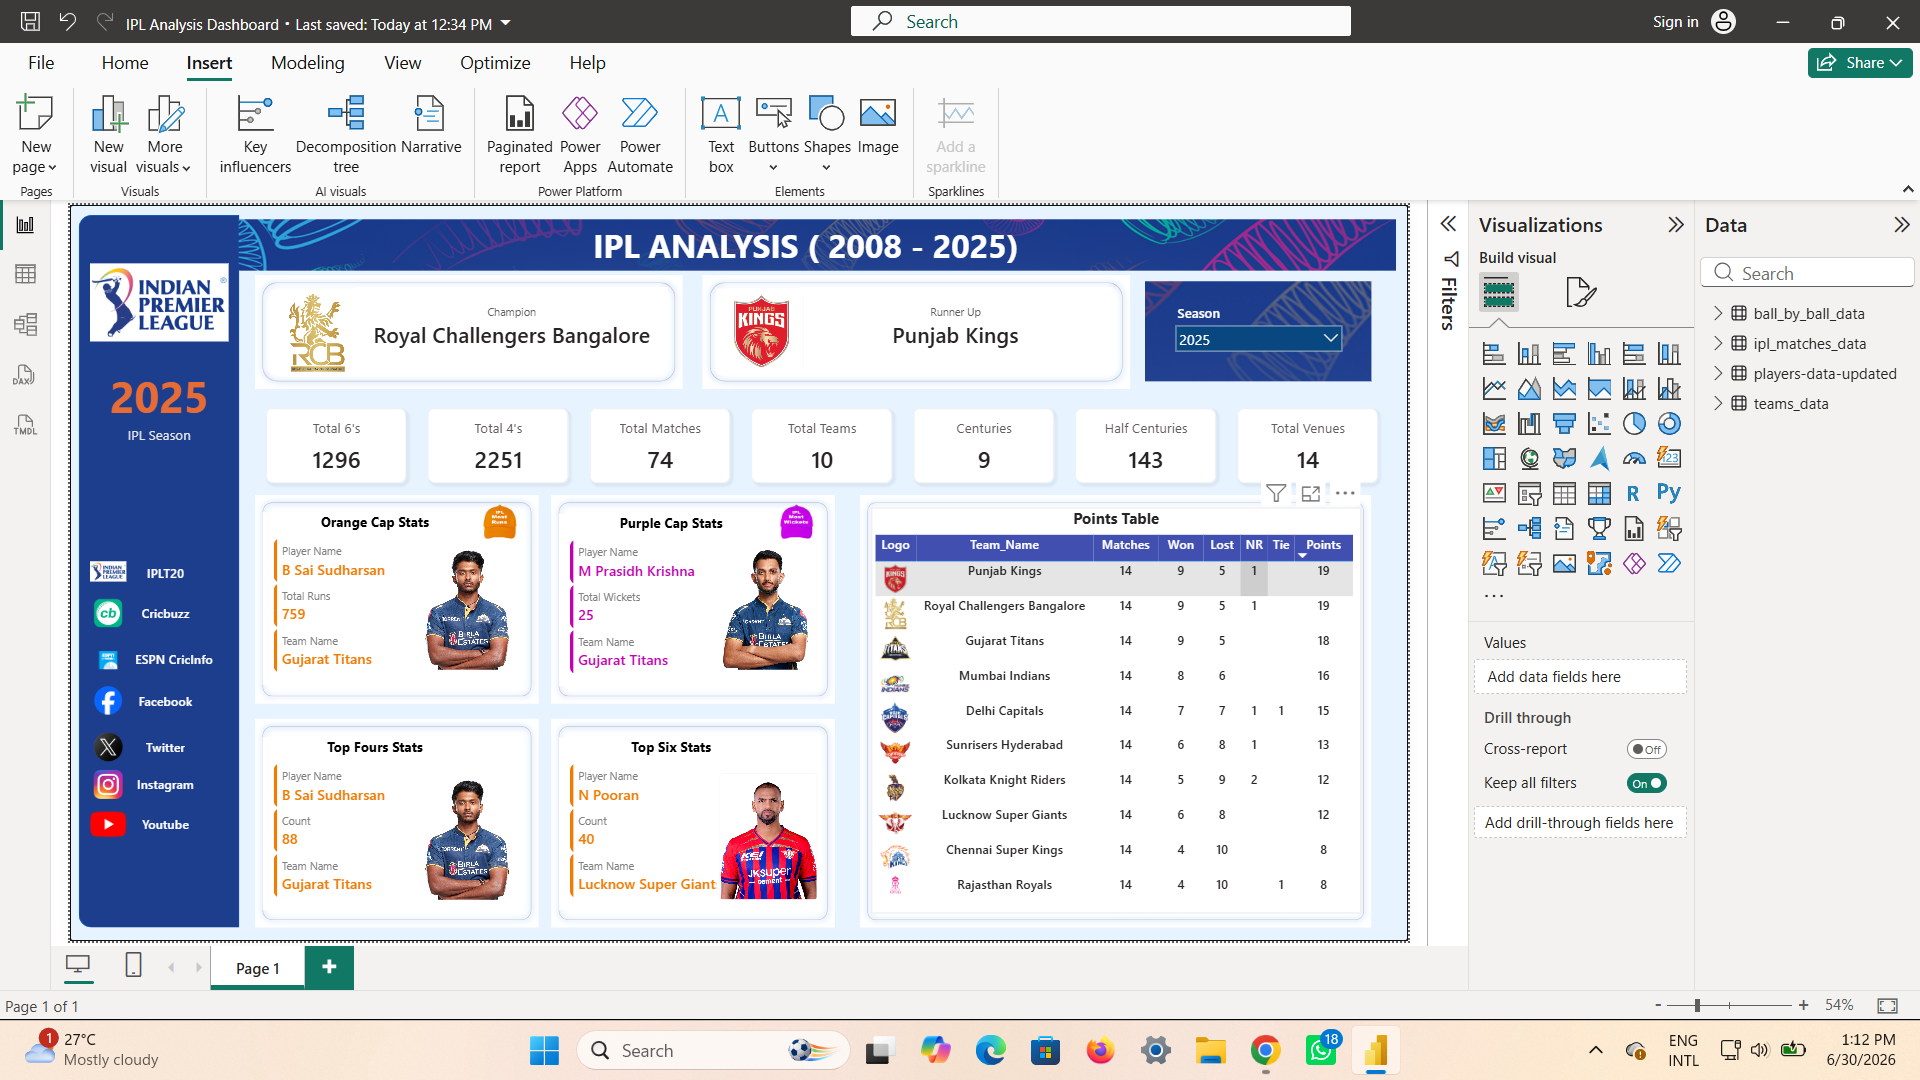

Layout of this report page (visuals, bound fields, positions):
{"tool":"powerbi","page":{"name":"Page 1","canvas":[2000,1100],"ordinal":0},"visuals":[{"type":"shape","box":[13.1,14.9,240,1065],"z":0},{"type":"shape","box":[1180.7,433.4,764.1,646.4],"z":1000},{"type":"image","box":[1606.7,114,338.1,149.5],"z":2000},{"type":"image","box":[252.2,14.9,1730,89.7],"z":3000},{"type":"shape","box":[276.5,433.4,424.1,312],"z":4000},{"type":"cardVisual","fields":{"Data":["ipl_matches_data.Total 6's","ipl_matches_data.Total 4's","ipl_matches_data.Total Matches","ipl_matches_data.Total Teams","ipl_matches_data.Centuries","ipl_matches_data.Half Centuries","ipl_matches_data.Total Venues"]},"box":[263.4,274.6,1724.4,170],"z":5000},{"type":"shape","box":[276.5,104.6,638.9,170],"z":6000},{"type":"textbox","box":[777.2,22.4,807.1,82.2],"z":7000},{"type":"cardVisual","fields":{"Data":["ipl_matches_data.Season Winner","ipl_matches_data.Season Winner"]},"box":[422.2,125.2,476.4,128.9],"z":8000},{"type":"shape","box":[945.3,104.6,638.9,170],"z":9000},{"type":"cardVisual","fields":{"Data":["ipl_matches_data.Runner Up"]},"box":[1085.4,117,476.4,128.9],"z":10000},{"type":"cardVisual","fields":{"Data":["ipl_matches_data.Season Winner","ipl_matches_data.Season Winner"]},"box":[422.2,117.7,476.4,128.9],"z":11000},{"type":"cardVisual","title":"Orange Cap Stats","fields":{"Data":["ipl_matches_data.Orange Cap Holder","ipl_matches_data.Orange Cap Runs","ipl_matches_data.Orange Cap Team Name"]},"box":[287.7,459.6,336.3,257.8],"z":12000},{"type":"cardVisual","fields":{"Data":["ipl_matches_data.Orange Cap Image"]},"box":[517.5,500.7,156.9,199.9],"z":13000},{"type":"image","box":[610.9,446.5,63.5,54.2],"z":14000},{"type":"cardVisual","fields":{"Data":["ipl_matches_data.Season Winner Logo"]},"box":[300.8,127,136.4,127],"z":15000},{"type":"cardVisual","fields":{"Data":["ipl_matches_data.Runner Up Logo"]},"box":[965.9,125.2,136.4,127],"z":16000},{"type":"slicer","fields":{"Values":["ipl_matches_data.season"]},"box":[1642.2,142,269,97.1],"z":17000},{"type":"shape","box":[719.3,433.4,424.1,312],"z":18000},{"type":"cardVisual","title":"Purple Cap Stats","fields":{"Data":["ipl_matches_data.Purple Cap Holder","ipl_matches_data.Purple Cap WicketCount","ipl_matches_data.Purple Cap Team"]},"box":[730.5,461.4,336.3,257.8],"z":19000},{"type":"cardVisual","fields":{"Data":["ipl_matches_data.Purple Cap HolderImage"]},"box":[965.9,500.7,156,199.9],"z":20000},{"type":"image","box":[1055.5,446.5,61.7,54.2],"z":21000},{"type":"shape","box":[276.5,767.8,424.1,312],"z":22000},{"type":"shape","box":[719.3,767.8,424.1,312],"z":23000},{"type":"cardVisual","title":"Top Fours Stats","fields":{"Data":["ipl_matches_data.Top Fours Player Name","ipl_matches_data.Top Fours Count","ipl_matches_data.Top Fours Player TeamName"]},"box":[287.7,795.9,336.3,257.8],"z":24000},{"type":"cardVisual","fields":{"Data":["ipl_matches_data.Top Fours Player Image"]},"box":[517,844.4,156.9,199.9],"z":25000},{"type":"cardVisual","title":"Top Six Stats","fields":{"Data":["ipl_matches_data.Top Six Player Name","ipl_matches_data.Top Six Count","ipl_matches_data.Top Six Player TeamName"]},"box":[730.5,795.9,336.3,257.8],"z":26000},{"type":"cardVisual","fields":{"Data":["ipl_matches_data.Top Six Player Image"]},"box":[965.9,844.4,156.9,199.9],"z":27000},{"type":"tableEx","title":"Points Table","fields":{"Values":["teams_data.image_url","teams_data.team_name","ipl_matches_data.Matches Played","ipl_matches_data.Matches Won","ipl_matches_data.Matches Lost","ipl_matches_data.No Result Matches","ipl_matches_data.Tie Played","ipl_matches_data.Total Points"]},"box":[1197.5,452.1,732.3,607.2],"z":28000},{"type":"image","box":[29.9,28,207.4,235.4],"z":29000},{"type":"cardVisual","fields":{"Data":["ipl_matches_data.IPL Season"]},"box":[29.9,207.4,207.4,183.1],"z":30000},{"type":"image","box":[29.9,588.5,54.2,43],"z":31000},{"type":"actionButton","box":[93.4,588.5,99,43],"z":31001},{"type":"image","box":[29.9,659.5,54.2,42],"z":31002},{"type":"actionButton","box":[93.4,657.6,143.9,43],"z":31003},{"type":"image","box":[29.9,719.3,54.2,42],"z":31004},{"type":"actionButton","box":[93.4,719.3,99,43],"z":31005},{"type":"image","box":[29.9,788.4,54,43],"z":31006},{"type":"actionButton","box":[93.4,788.4,99,43],"z":31007},{"type":"image","box":[29.9,844.4,54,43],"z":31008},{"type":"actionButton","box":[93.4,844.4,99,43],"z":31009},{"type":"image","box":[29.9,904.2,54,42],"z":31010},{"type":"actionButton","box":[93.4,904.2,99,43],"z":31011},{"type":"image","box":[29,526.8,54.2,42],"z":31012},{"type":"actionButton","box":[93.4,528.7,99,43],"z":31013}]}

Visuals, with their boxes on the page's 2000x1100 design canvas (x1, y1, x2, y2). These are canvas units, not pixel positions in the 1920x1080 screenshot, which may show the page scaled, cropped or inside an application window:
shape: (13,15,253,1080)
shape: (1181,433,1945,1080)
image: (1607,114,1945,264)
image: (252,15,1982,105)
shape: (276,433,701,745)
cardVisual - ipl_matches_data.Total 6's x ipl_matches_data.Total 4's: (263,275,1988,445)
shape: (276,105,915,275)
textbox: (777,22,1584,105)
cardVisual - ipl_matches_data.Season Winner x ipl_matches_data.Season Winner: (422,125,899,254)
shape: (945,105,1584,275)
cardVisual - ipl_matches_data.Runner Up: (1085,117,1562,246)
cardVisual - ipl_matches_data.Season Winner x ipl_matches_data.Season Winner: (422,118,899,247)
"Orange Cap Stats" cardVisual: (288,460,624,717)
cardVisual - ipl_matches_data.Orange Cap Image: (518,501,674,701)
image: (611,446,674,501)
cardVisual - ipl_matches_data.Season Winner Logo: (301,127,437,254)
cardVisual - ipl_matches_data.Runner Up Logo: (966,125,1102,252)
slicer - ipl_matches_data.season: (1642,142,1911,239)
shape: (719,433,1143,745)
"Purple Cap Stats" cardVisual: (730,461,1067,719)
cardVisual - ipl_matches_data.Purple Cap HolderImage: (966,501,1122,701)
image: (1056,446,1117,501)
shape: (276,768,701,1080)
shape: (719,768,1143,1080)
"Top Fours Stats" cardVisual: (288,796,624,1054)
cardVisual - ipl_matches_data.Top Fours Player Image: (517,844,674,1044)
"Top Six Stats" cardVisual: (730,796,1067,1054)
cardVisual - ipl_matches_data.Top Six Player Image: (966,844,1123,1044)
"Points Table" tableEx: (1198,452,1930,1059)
image: (30,28,237,263)
cardVisual - ipl_matches_data.IPL Season: (30,207,237,390)
image: (30,588,84,632)
actionButton: (93,588,192,632)
image: (30,660,84,702)
actionButton: (93,658,237,701)
image: (30,719,84,761)
actionButton: (93,719,192,762)
image: (30,788,84,831)
actionButton: (93,788,192,831)
image: (30,844,84,887)
actionButton: (93,844,192,887)
image: (30,904,84,946)
actionButton: (93,904,192,947)
image: (29,527,83,569)
actionButton: (93,529,192,572)
